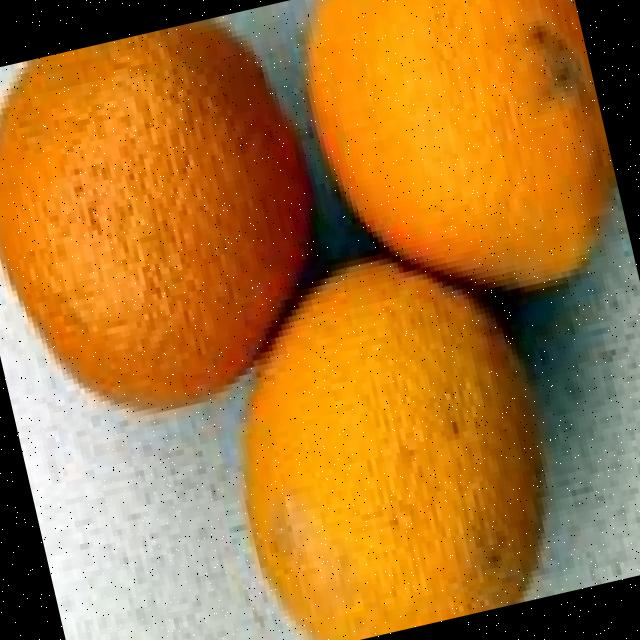Good_Orange-15-21 days: (0, 0, 620, 640)
